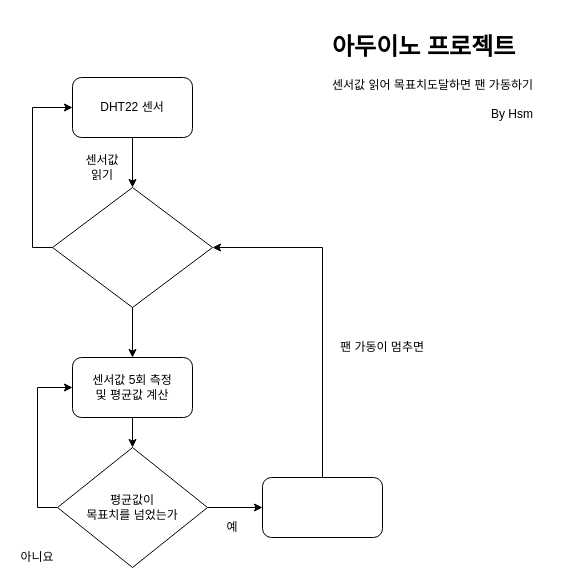
Some shapes in this 574 by 585 pixel diagram are drawn without their labels. The centre of each missing label's shape, as x and y in pixels:
"아두이노 나노" goes at (x=132, y=247).
"지정된 시간만큼 팬 가동" goes at (x=322, y=507).
